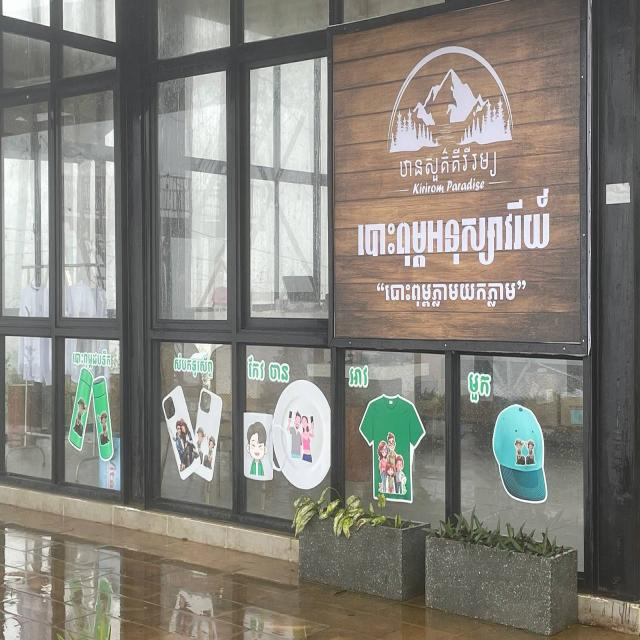1: (244, 353, 291, 388)
Yolov11kh: (352, 185, 560, 270), (394, 141, 502, 189), (374, 277, 530, 310), (167, 349, 218, 381), (464, 369, 494, 413), (346, 358, 374, 397), (69, 349, 114, 371)
